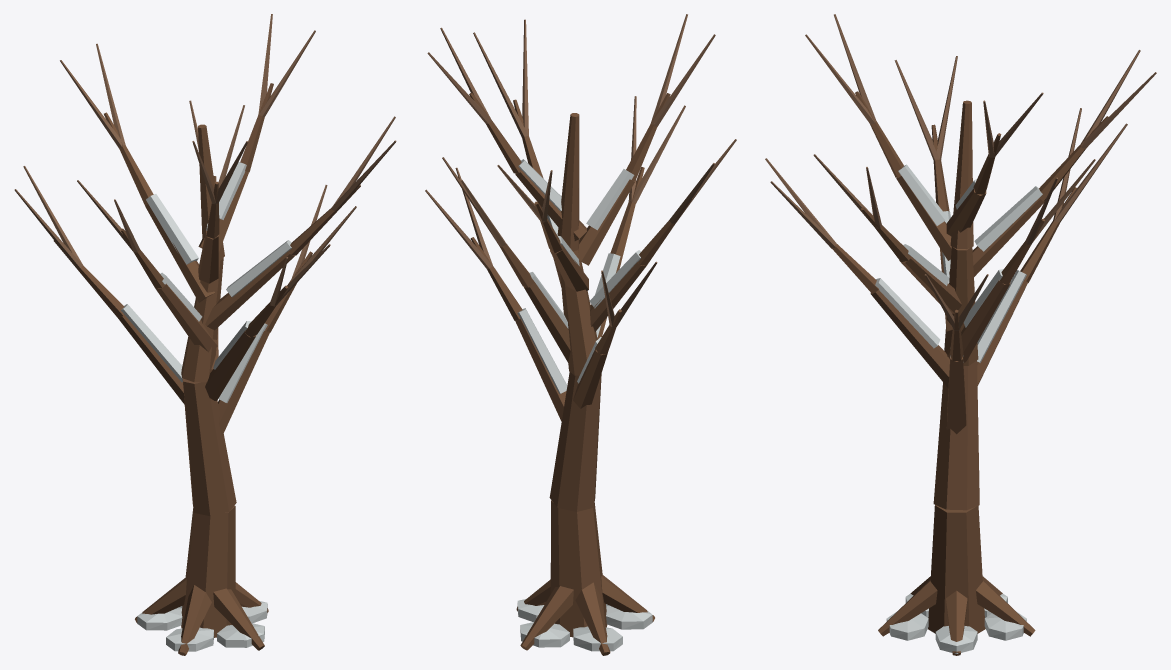
Rendered from tree_oak_winter.glb.
3 renders of one model, left to right at view 1: azimuth 30°, elevation 25°; view 2: azimuth 150°, elevation 25°; view 3: azimuth 270°, elevation 25°, orthographic. The views are drawn at different scales.
Visible parts, largest first — view 1: branches, snow; view 2: branches, snow; view 3: branches, snow.
Part boxes in pixels (x1,y1,x2,y2): branches: (14,14,396,655); snow: (121,162,291,651); branches: (425,14,736,655); snow: (517,159,652,651); branches: (765,14,1156,655); snow: (875,164,1042,653).
Bounding box in the file's own units: 0.6406 × 1.23 × 0.7396.
